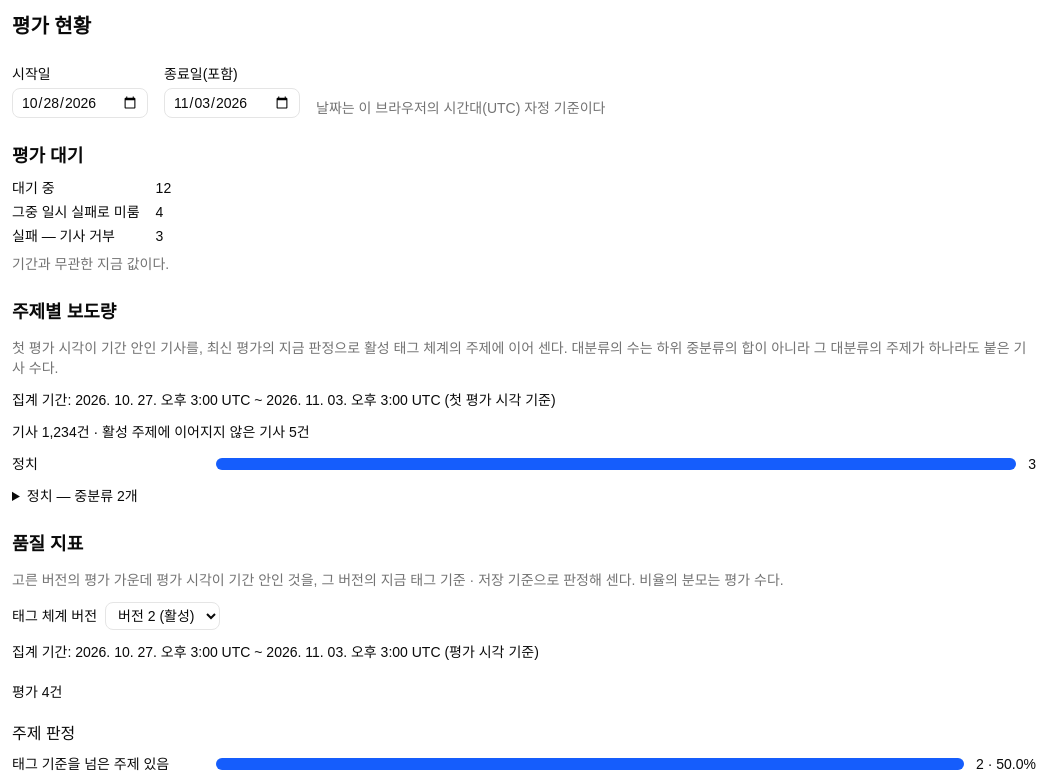
it: EvaluationPage › 대분류를 펼치면 중분류별 기사 수를 보고, 대분류의 수는 하위의 합이 아니다
Click the heading "정치 — 중분류 2개".
click(82, 496)  # box [27,488,138,504]
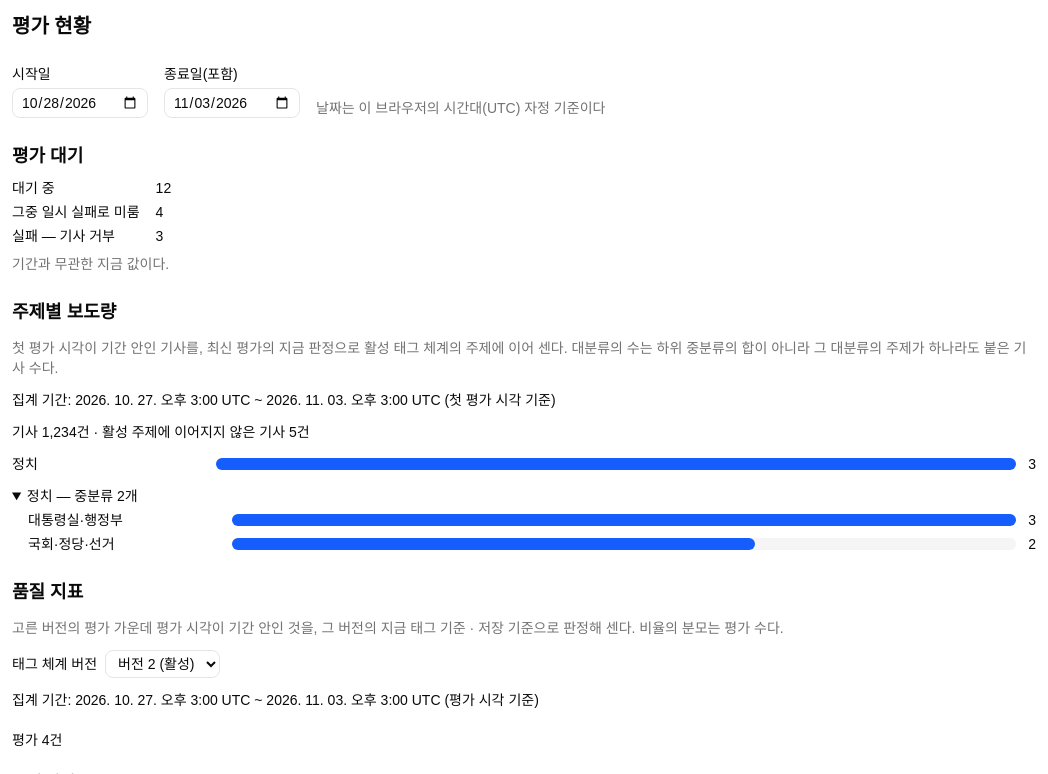
Expected: the list named "대분류별 기사 수" reads "정치 3", [12,454,1036,474]
Now the list item "대통령실·행정부 3" is shown, box [28,510,1036,530]
Now the list item "국회·정당·선거 2" is shown, box [28,534,1036,554]
